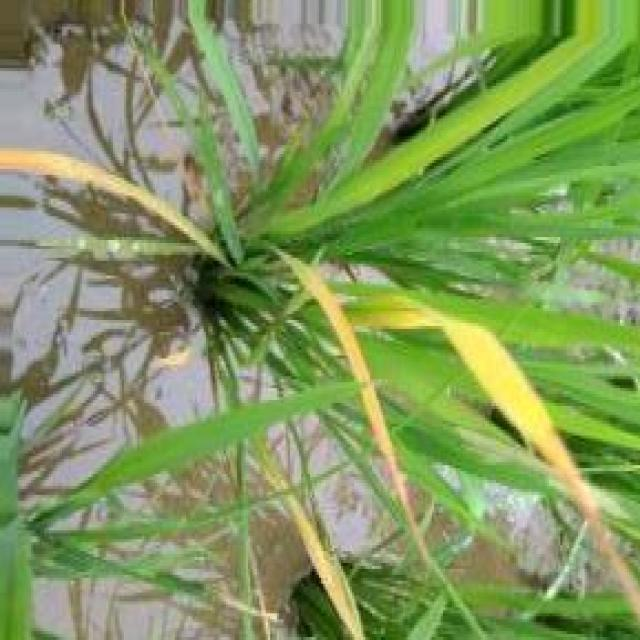Rice Tungro: (281, 251, 485, 636), (426, 308, 640, 620), (0, 148, 225, 263)
